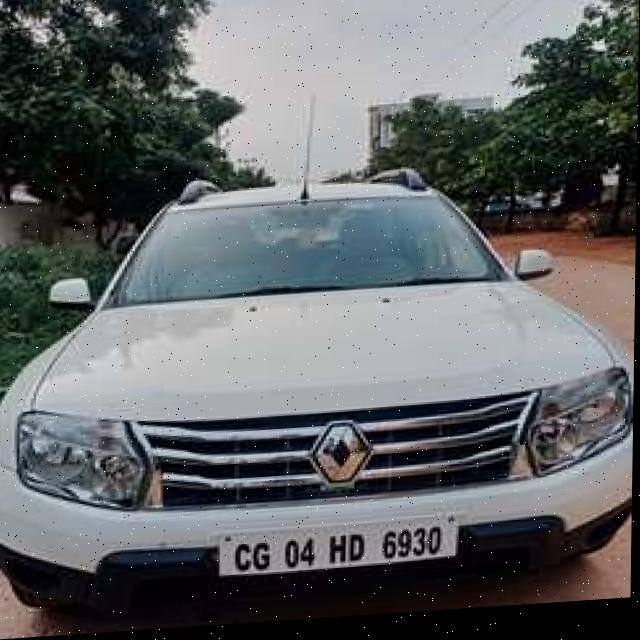plate: (221, 523, 460, 580)
